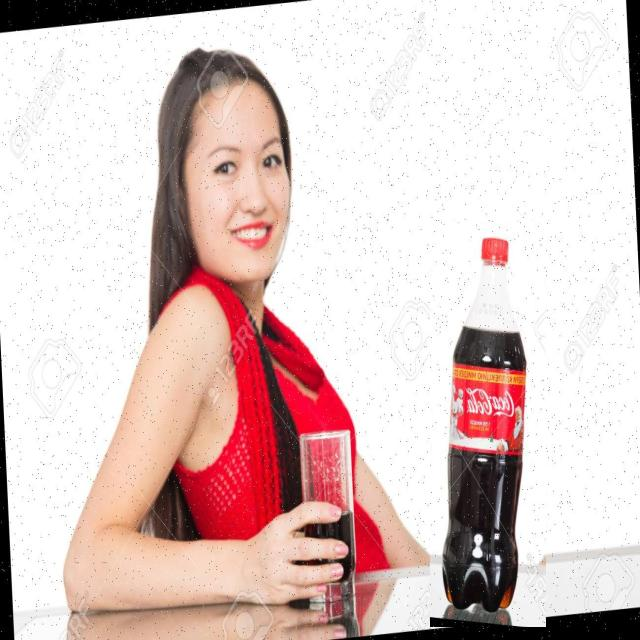coca-cola: (430, 222, 546, 627)
